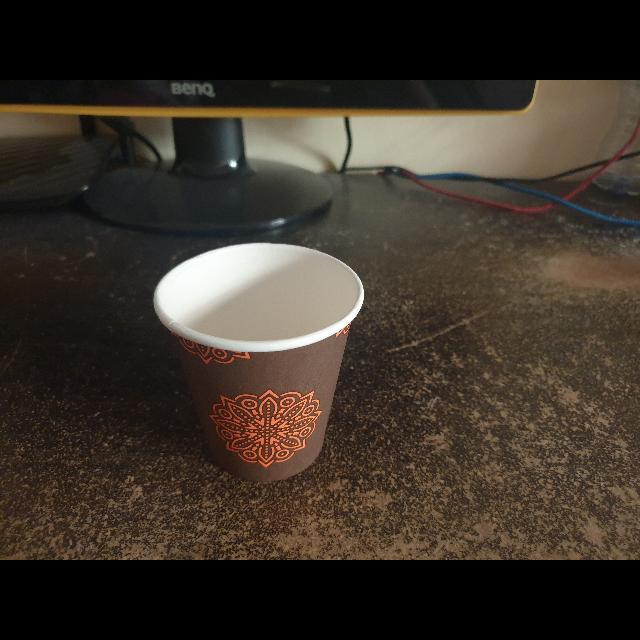trash: (149, 234, 369, 488)
